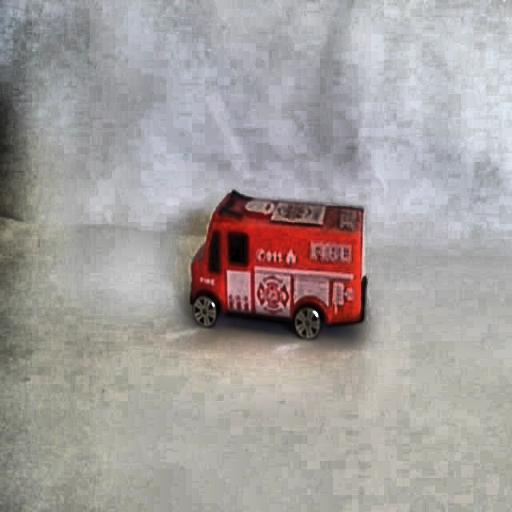fire_truck: (186, 186, 367, 341)
